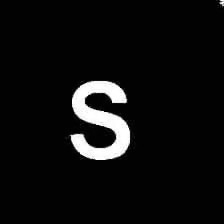LTR_S: (65, 73, 133, 164)
